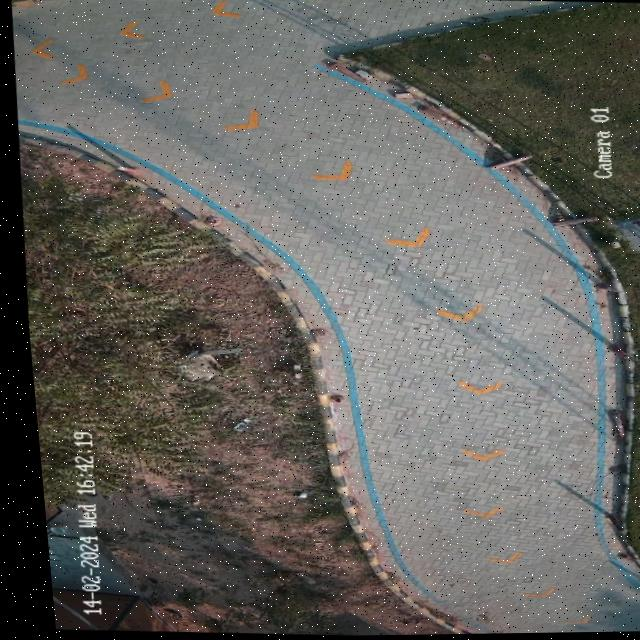No Car: (11, 0, 640, 636)
